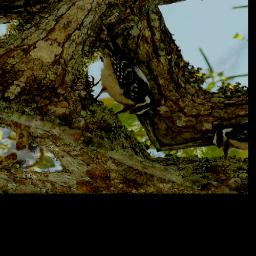Woodpecker: (49, 23, 197, 127)
